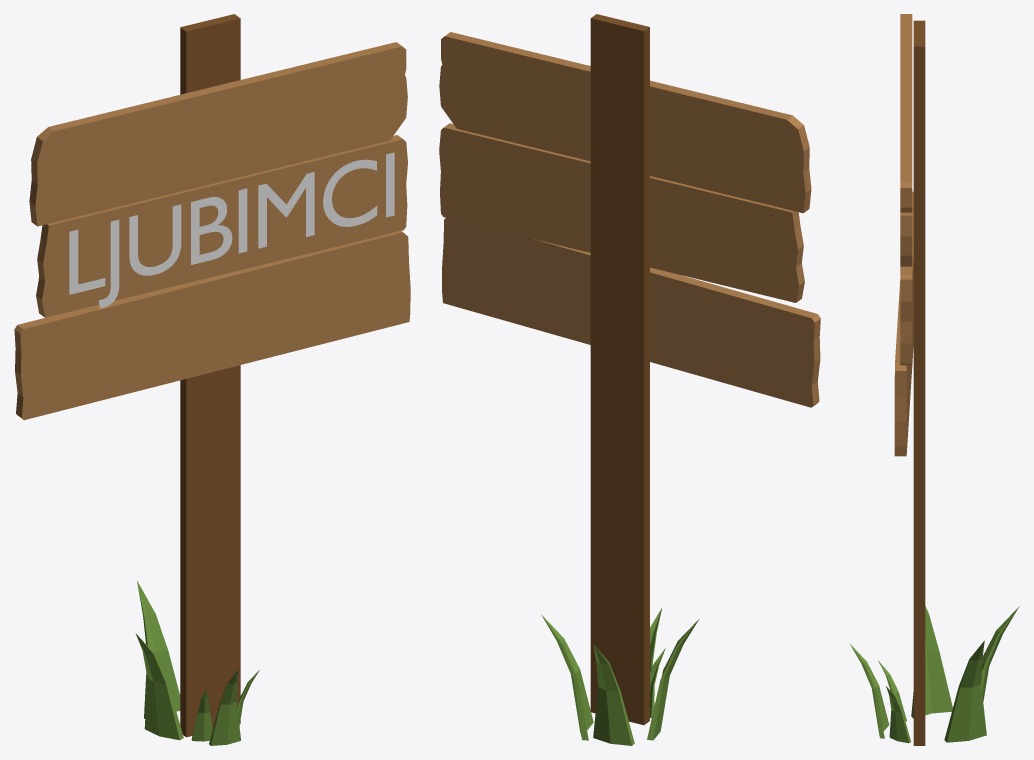
Rendered from sign_ljubimci.fbx.
3 renders of one model, left to right at view 1: azimuth 30°, elevation 25°; view 2: azimuth 150°, elevation 25°; view 3: azimuth 270°, elevation 25°, orthographic.
Parts seen in each view (by area): view 1: Sign7, Text.001; view 2: Sign7; view 3: Sign7.
Part boxes in pixels (x1,y1,x2,y2): Sign7: (14,14,410,745); Text.001: (69,152,394,308); Sign7: (439,14,820,745); Sign7: (849,14,1019,745).
Size of the model in its own units: 113 by 198 by 43.85.
